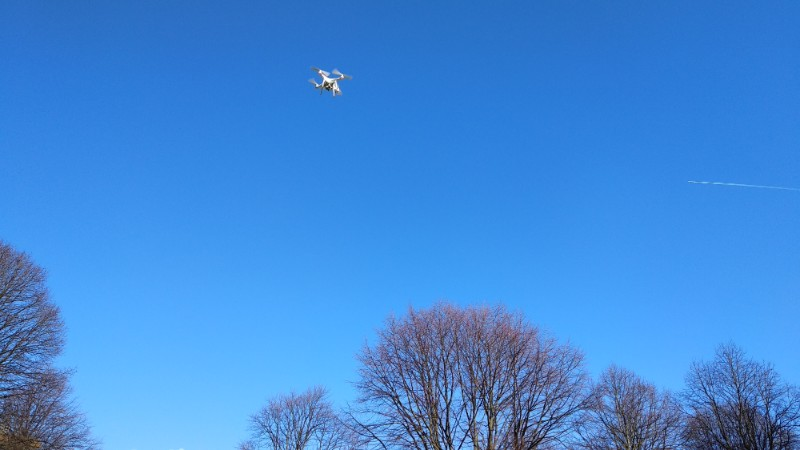drone: (308, 65, 352, 101)
